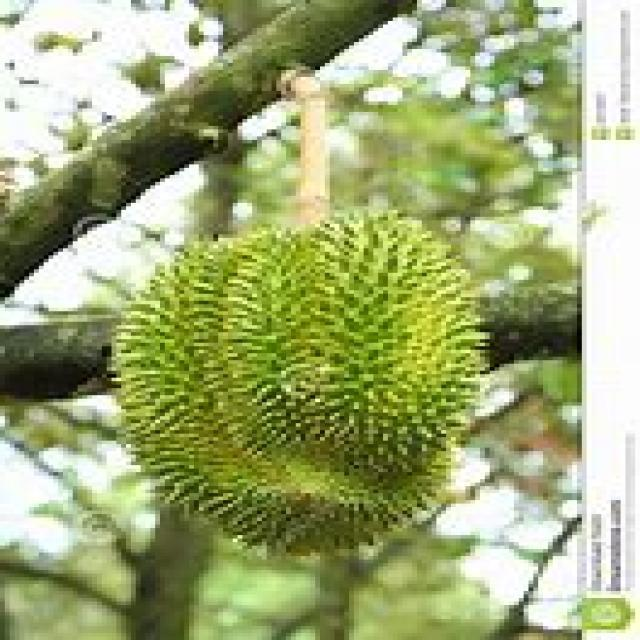immature: (111, 214, 492, 554)
